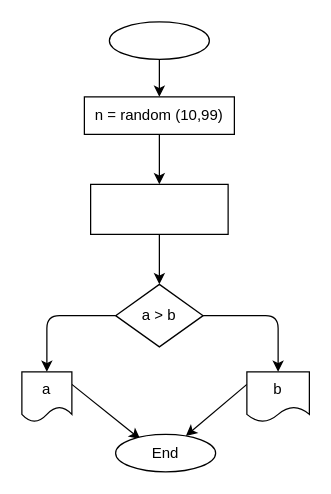
The diagram is 331 pixels wide and 494 high, and some of its shapes have lost their labels. The box of each missing label's shape, as (x1, y1, x2, y2) in pixels:
a = n div 10 b = n mod 10: (89, 183, 228, 234)
Start: (108, 21, 209, 59)
